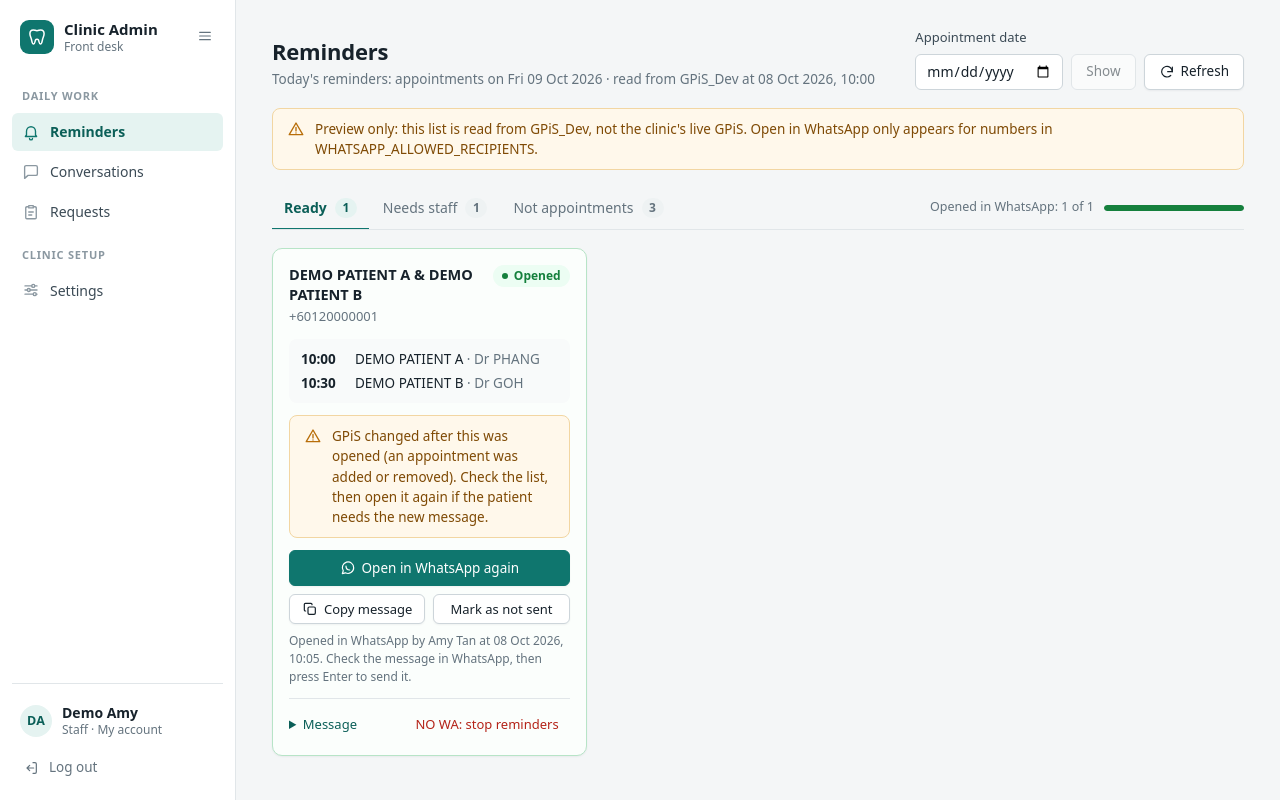
Test: reminders › shows what another staff did and can mark it as not sent
This screenshot has width=1280, height=800.
Expected: the text "Opened" is shown, x1=493 y1=265 x2=570 y2=287
Expected: the text "Opened in WhatsApp: 1 of 1" is shown, x1=930 y1=198 x2=1094 y2=217
What coordinates should you click on to do the following:
click the button "Mark as not sent"
I would click on:
 (501, 609)
Its box is x1=433 y1=594 x2=570 y2=624.
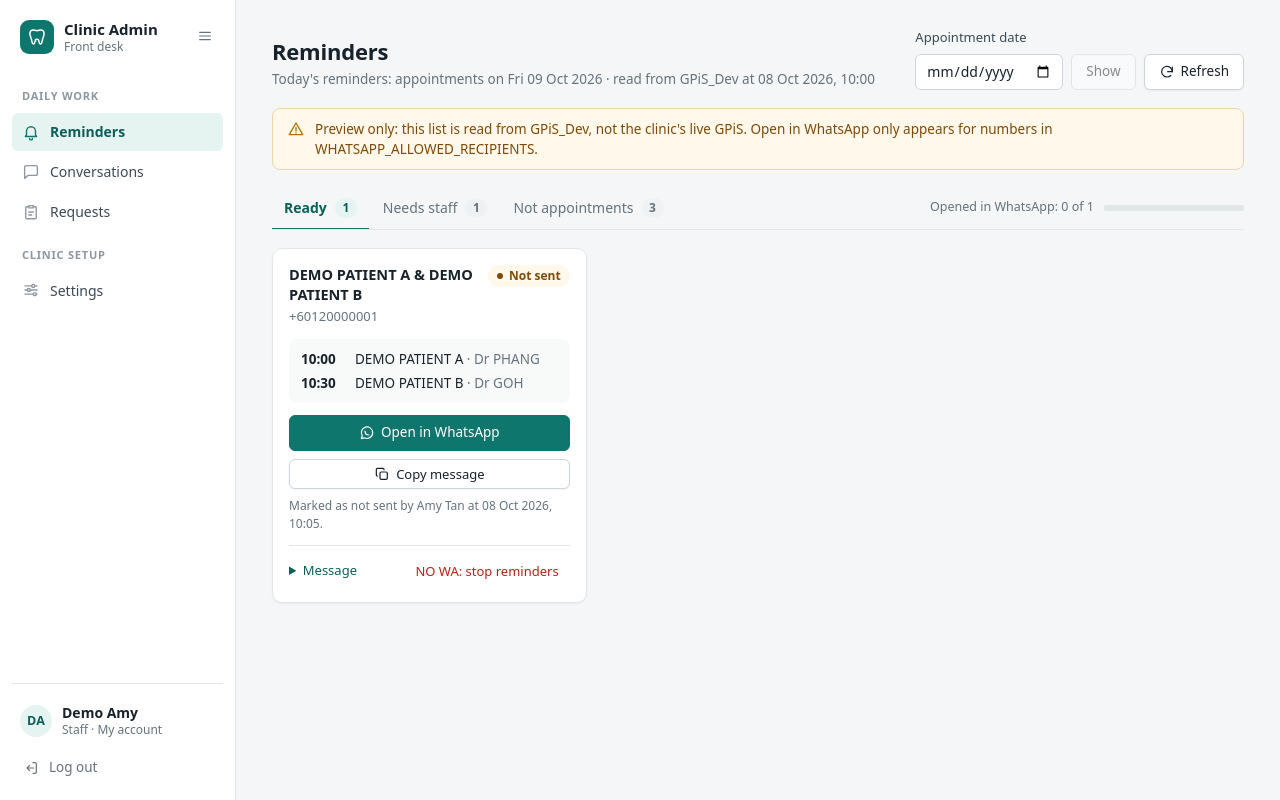
Expected: the link "Open in WhatsApp" is shown, x1=289 y1=415 x2=570 y2=451
Now the text "Not sent" is shown, box x1=488 y1=265 x2=570 y2=287
Now the text "Marked as not sent by Amy Tan at 08 Oct 2026, 10:05." is shown, box x1=289 y1=497 x2=570 y2=533
